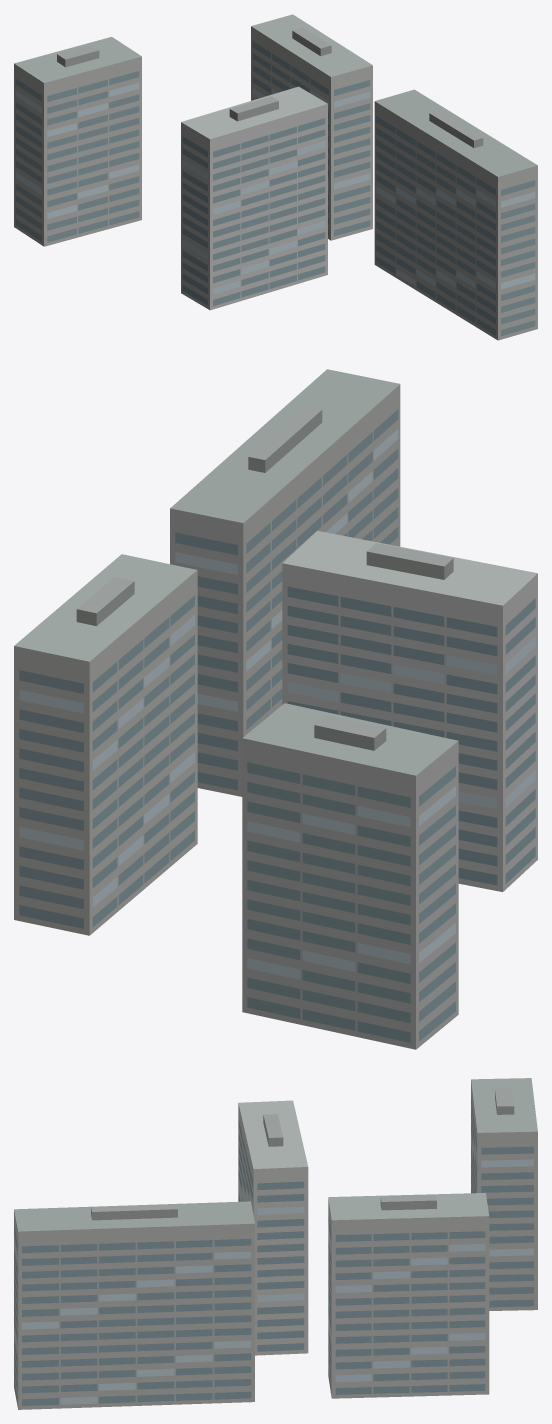
The model's file is apt-a15101505.glb.
The picture shows the model from 3 angles, top to bottom: view 1: azimuth 30°, elevation 25°; view 2: azimuth 150°, elevation 25°; view 3: azimuth 270°, elevation 25°; orthographic projection. The views are drawn at different scales.
Visible parts, largest first — view 1: apt-a15101505; view 2: apt-a15101505; view 3: apt-a15101505.
Part boxes in pixels (bbox=[...]): apt-a15101505: bbox=[14, 14, 537, 340]; apt-a15101505: bbox=[14, 369, 537, 1049]; apt-a15101505: bbox=[14, 1078, 537, 1409].
Bounding box in the file's own units: 77.56 × 46 × 112.
